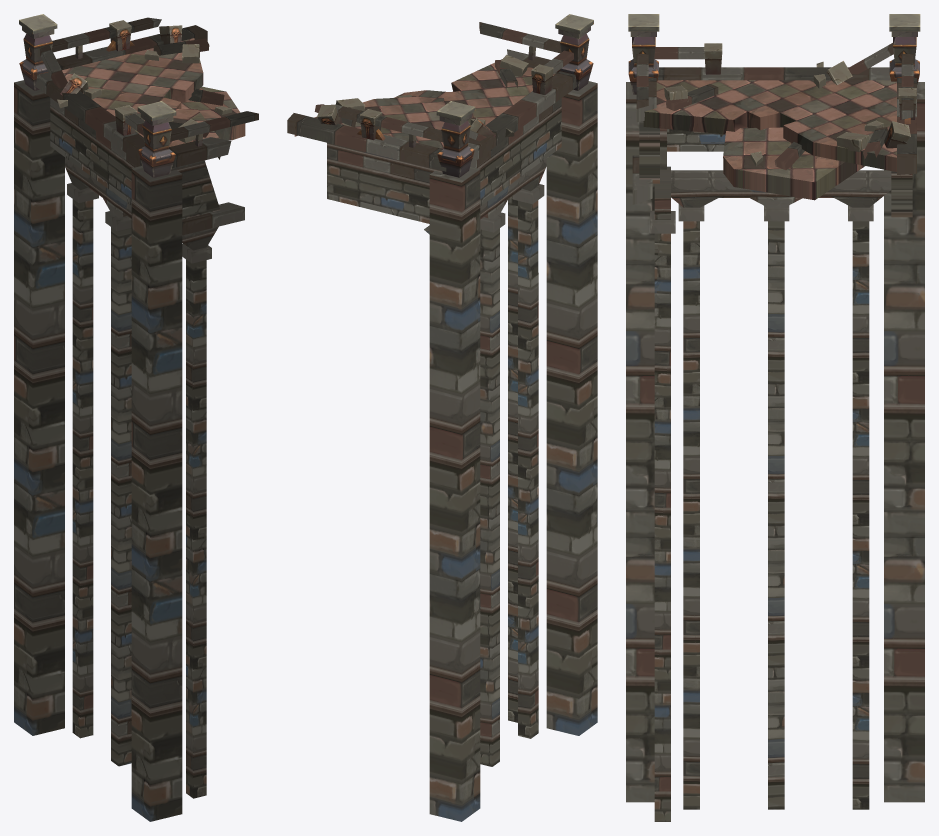
Rendered from pingtai_02.FBX.
3 renders of one model, left to right at view 1: azimuth 30°, elevation 25°; view 2: azimuth 150°, elevation 25°; view 3: azimuth 270°, elevation 25°, orthographic. The views are drawn at different scales.
Parts seen in each view (by area): view 1: Box495, Box492, Box502, 对象396, 对象388; view 2: Box495, Box492, Box502, 对象396, 对象388; view 3: Box495, Box492, Box502, 对象396, 对象388.
Part boxes in pixels (x1,y1,x2,y2): Box495: (14,17,258,821); Box492: (62,38,245,159); Box502: (19,14,176,177); 对象396: (60,20,202,146); 对象388: (57,44,232,142); Box495: (287,22,597,821); Box492: (294,59,555,148); Box502: (436,14,593,177); 对象396: (317,46,553,147); 对象388: (336,54,528,137); Box495: (626,43,924,821); Box492: (643,80,912,200); Box502: (628,14,920,94); 对象396: (704,43,916,148); 对象388: (664,61,883,166).
Bounding box in the file's own units: 530 × 1933 × 677.
